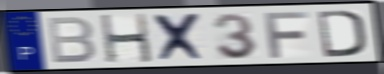3: (210, 11, 259, 61)
B: (44, 15, 97, 65)
D: (315, 8, 368, 59)
F: (262, 10, 312, 60)
H: (98, 12, 156, 65)
X: (151, 11, 210, 63)
